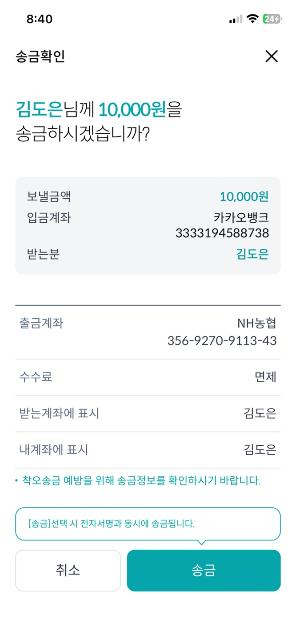Card: (16, 176, 280, 274)
Icon: (266, 50, 278, 62)
List: (15, 305, 280, 469)
Text: (17, 100, 182, 142), (168, 317, 276, 345), (16, 476, 260, 486), (176, 212, 268, 238), (30, 520, 194, 528), (20, 444, 88, 456), (20, 408, 98, 418), (16, 50, 64, 64), (28, 190, 70, 202), (28, 212, 70, 224), (20, 317, 64, 328), (222, 191, 268, 201), (237, 248, 269, 260), (244, 444, 276, 456), (28, 248, 58, 260), (20, 372, 52, 382), (244, 408, 276, 418), (192, 564, 216, 576), (57, 564, 80, 576), (256, 372, 276, 382)
TextButton: (127, 550, 281, 592), (15, 550, 121, 592)
Toolbar: (1, 32, 296, 74)
UpperTaskBar: (0, 1, 296, 32)
